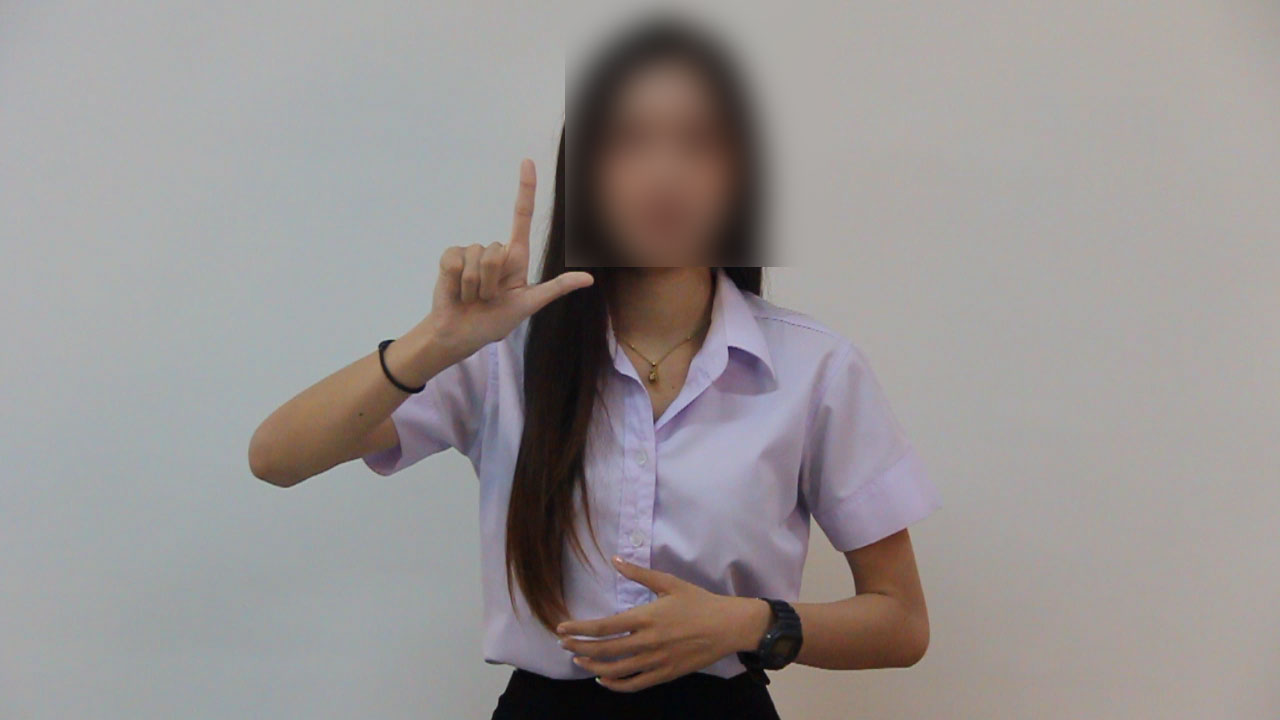lor: (416, 152, 608, 367)
